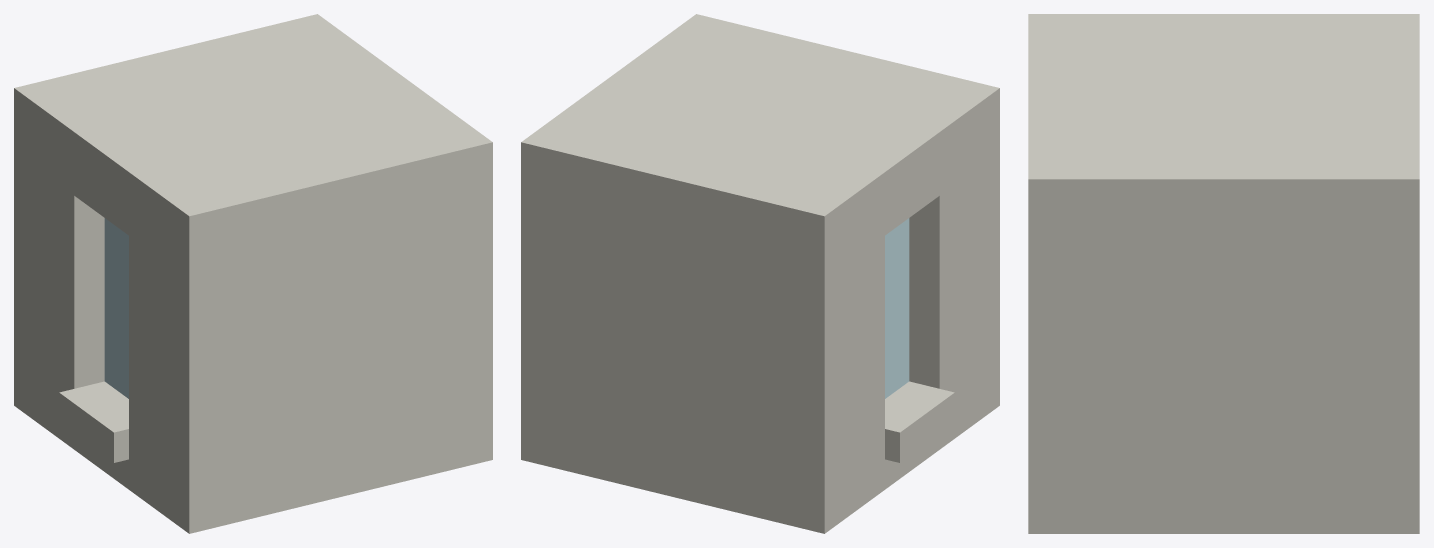
Rendered from Building Story 22.fbx.
The picture shows the model from 3 angles, left to right: view 1: azimuth 30°, elevation 25°; view 2: azimuth 150°, elevation 25°; view 3: azimuth 270°, elevation 25°; orthographic projection. The views are drawn at different scales.
Visible parts, largest first — view 1: Building Story 22; view 2: Building Story 22; view 3: Building Story 22.
Boxes of the visible parts, <box> form: Building Story 22: <box>14,14,492,533</box>; Building Story 22: <box>521,14,999,533</box>; Building Story 22: <box>1028,14,1419,533</box>.
Bounding box in the file's own units: 1.05 × 1 × 1.
